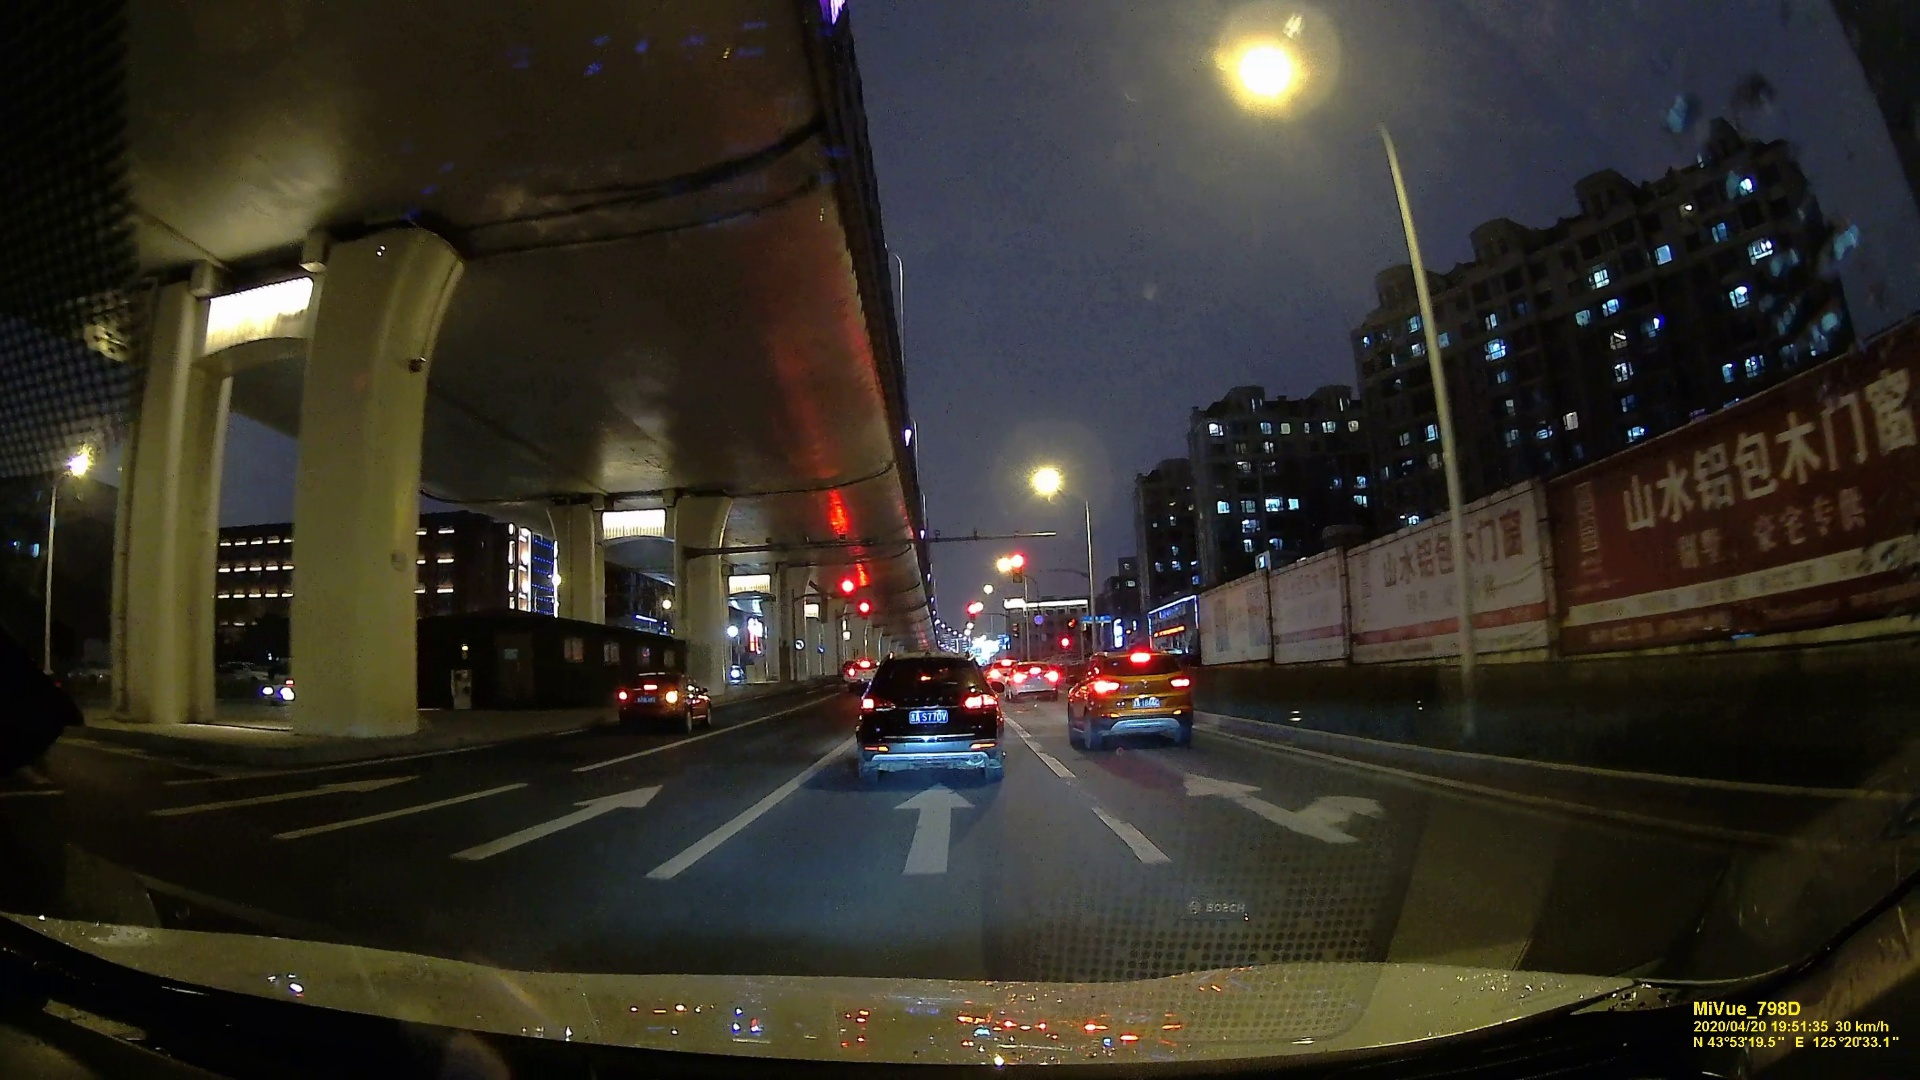traffic_sign: (1011, 554, 1025, 584)
vehicle: (849, 650, 1009, 786), (1065, 647, 1201, 756), (613, 671, 713, 731), (1005, 659, 1059, 703)
